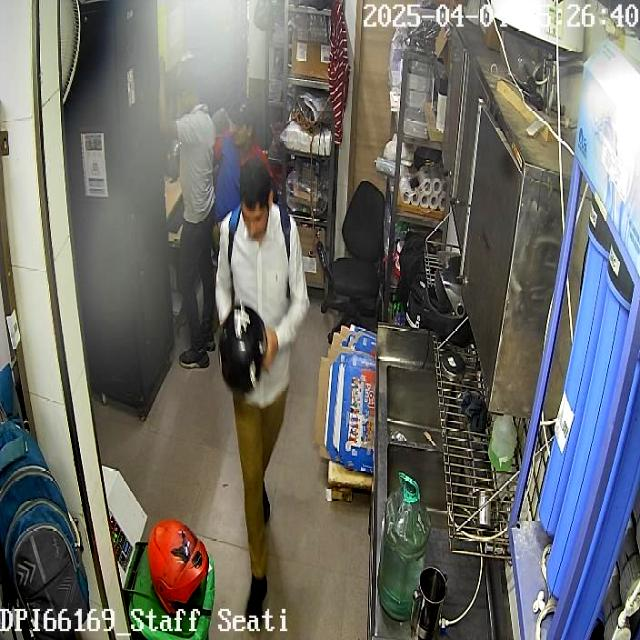helmet: (148, 517, 211, 615), (215, 306, 268, 393)
no_helmet: (238, 158, 272, 240)
